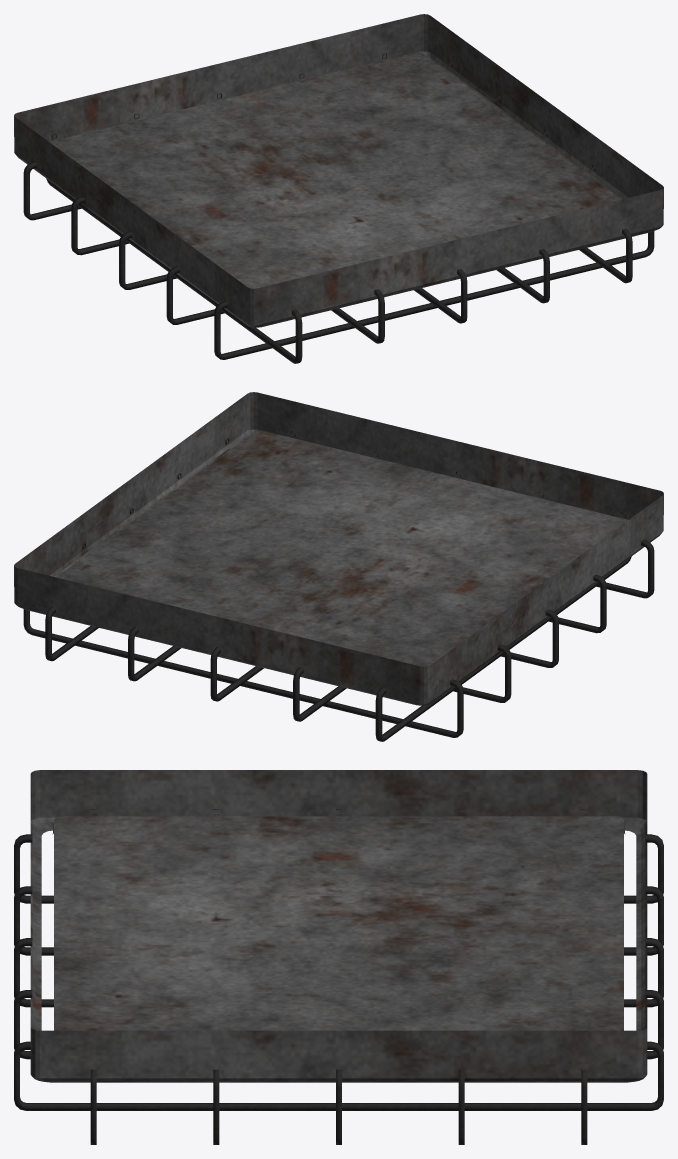
The model's file is ceiling_lamp_1.fbx.
3 views of the same model, one above another, from view 1: azimuth 30°, elevation 25°; view 2: azimuth 150°, elevation 25°; view 3: azimuth 270°, elevation 25° (orthographic). The views are drawn at different scales.
Visible parts, largest first — view 1: ceiling_lamp_1, ceiling_lamp_1_cover; view 2: ceiling_lamp_1, ceiling_lamp_1_cover; view 3: ceiling_lamp_1, ceiling_lamp_1_cover.
Part boxes in pixels (<box>): ceiling_lamp_1: <box>14,14,663,327</box>; ceiling_lamp_1_cover: <box>23,53,654,363</box>; ceiling_lamp_1: <box>14,392,663,705</box>; ceiling_lamp_1_cover: <box>23,431,654,741</box>; ceiling_lamp_1: <box>30,770,647,1082</box>; ceiling_lamp_1_cover: <box>14,809,663,1144</box>.
Bounding box in the file's own units: 1.06 × 1.06 × 0.2.
